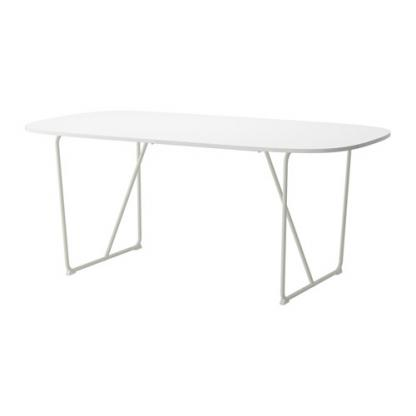Table: (20, 105, 394, 307)
